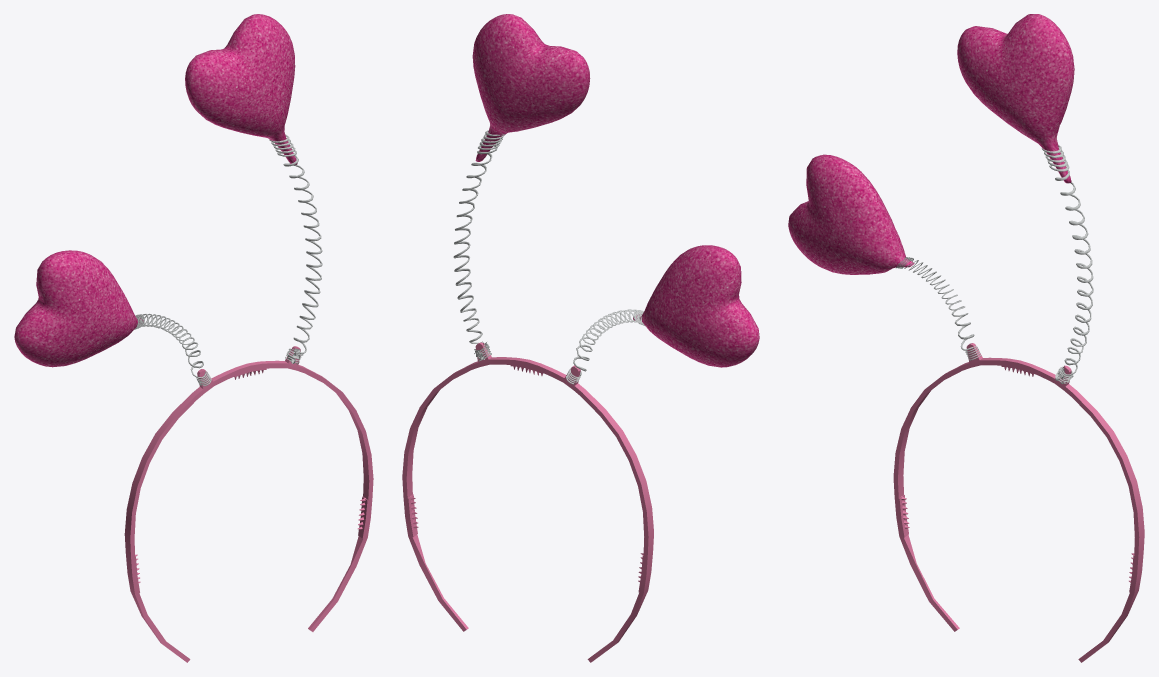
The picture shows the model from 3 angles, left to right: view 1: azimuth 30°, elevation 25°; view 2: azimuth 150°, elevation 25°; view 3: azimuth 330°, elevation 25°; orthographic projection.
Parts seen in each view (by area): view 1: Hairband; view 2: Hairband; view 3: Hairband.
Boxes of the visible parts, <box> form: Hairband: <box>14,14,373,662</box>; Hairband: <box>402,14,759,662</box>; Hairband: <box>788,14,1144,662</box>.
Size of the model in its own units: 1.69 by 2.87 by 0.2369.
Materials: 1 (1 with a texture image).
